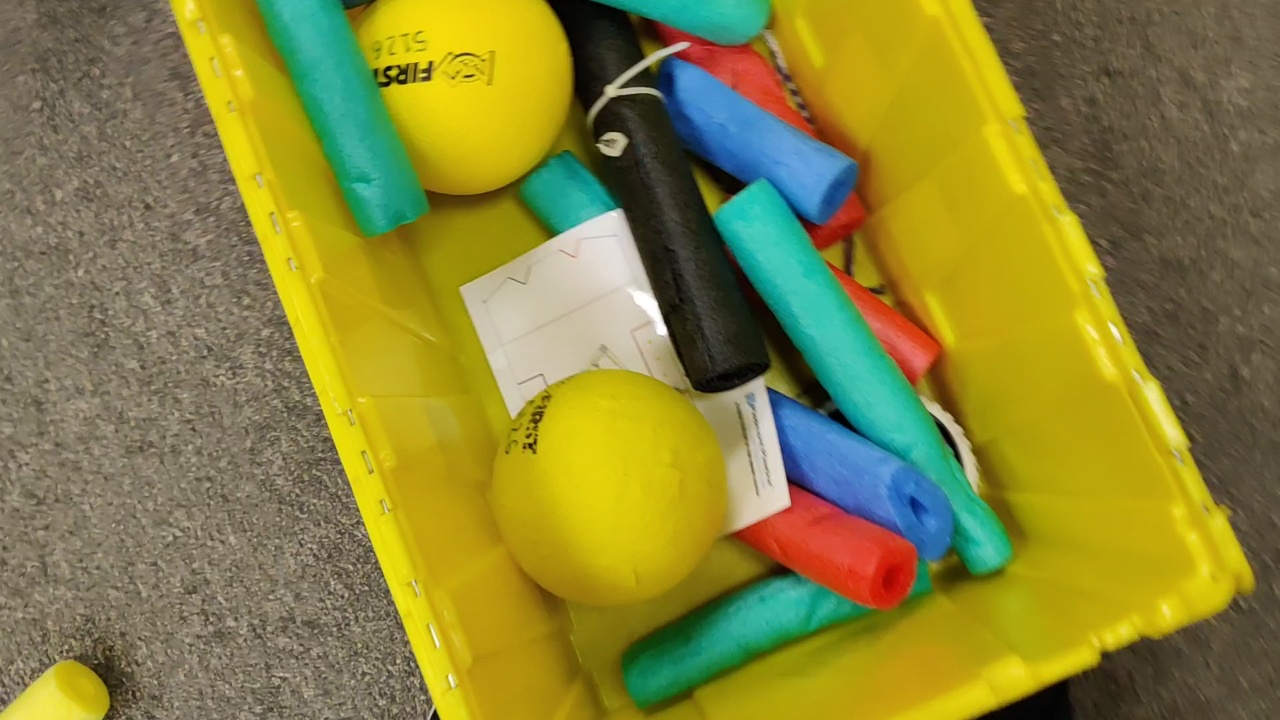Ball: (491, 369, 724, 603), (351, 1, 573, 195)
